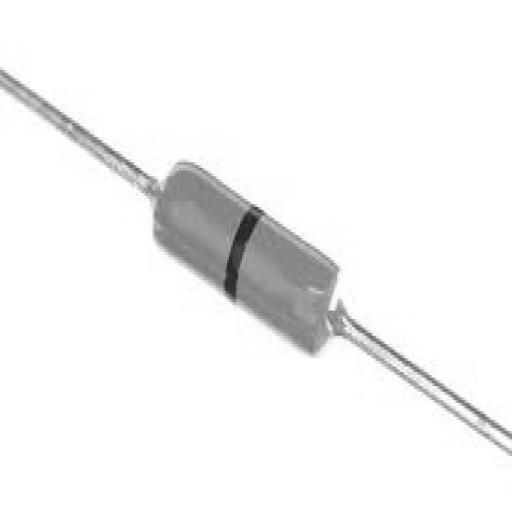RESISTOR: (114, 140, 357, 375)
